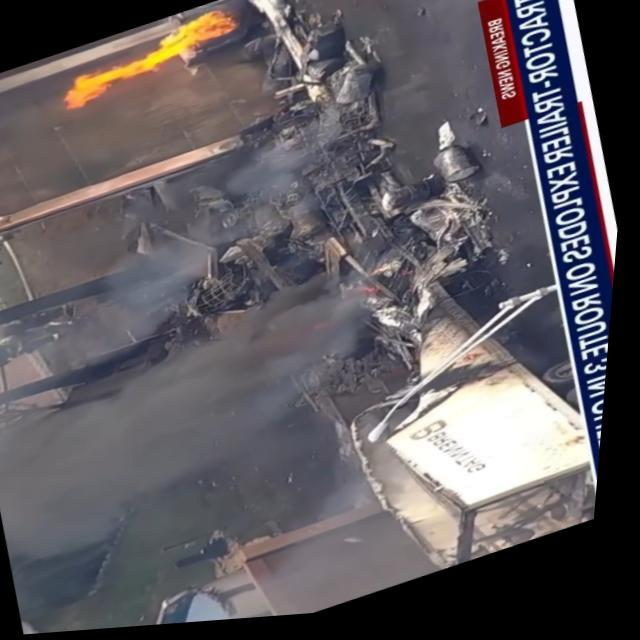fire: (41, 2, 256, 126)
